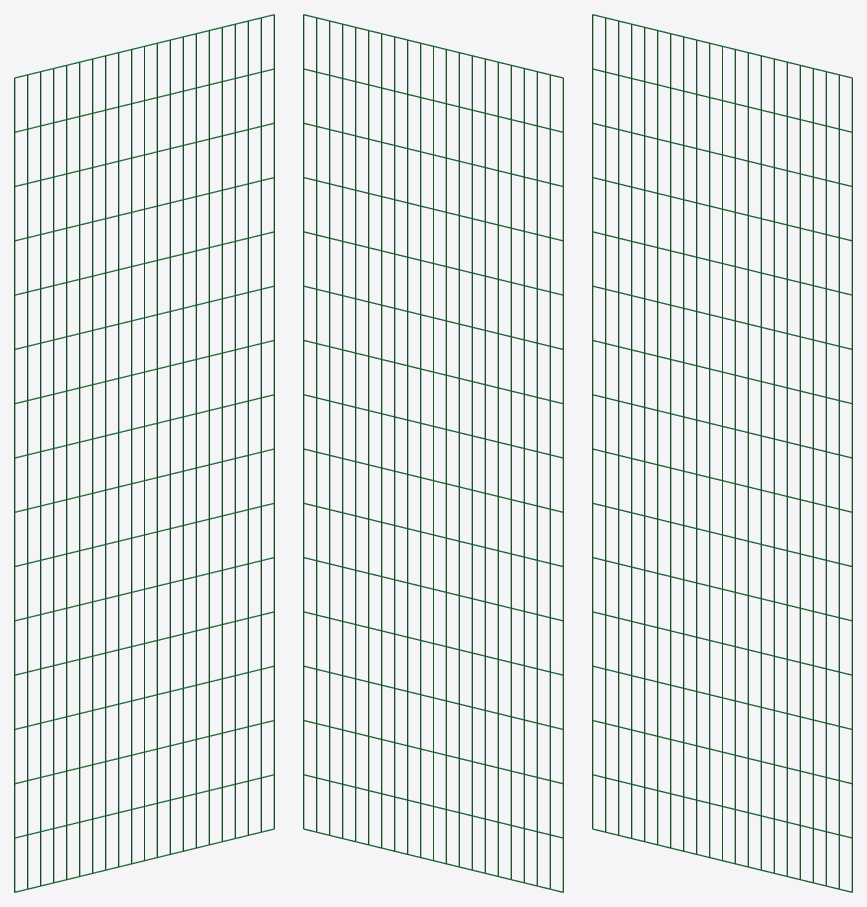
The model's file is boundary.mesh.h3000.glb.
3 renders of one model, left to right at view 1: azimuth 30°, elevation 25°; view 2: azimuth 150°, elevation 25°; view 3: azimuth 330°, elevation 25°, orthographic.
Parts seen in each view (by area): view 1: main__plastic_green; view 2: main__plastic_green; view 3: main__plastic_green.
Boxes of the visible parts, x1=… form: main__plastic_green: x1=14, y1=14, x2=274, y2=892; main__plastic_green: x1=303, y1=14, x2=563, y2=892; main__plastic_green: x1=592, y1=14, x2=852, y2=892.
Size of the model in its own units: 1 by 3.01 by 0.005.
